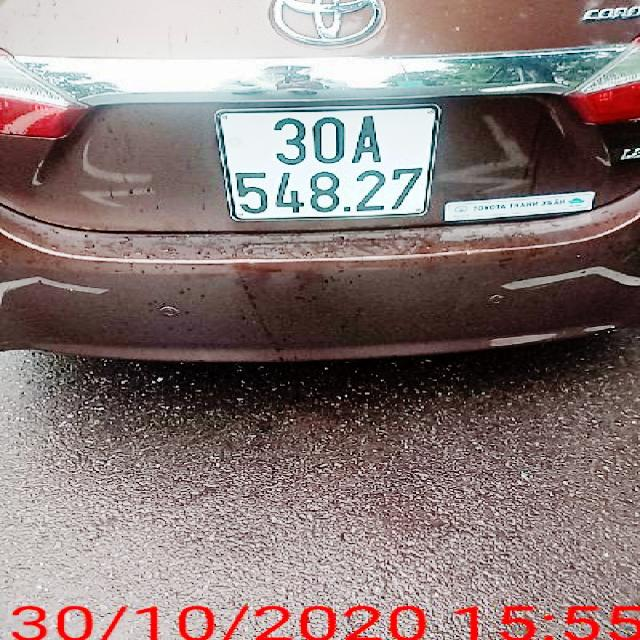license_plate: (216, 106, 439, 220)
